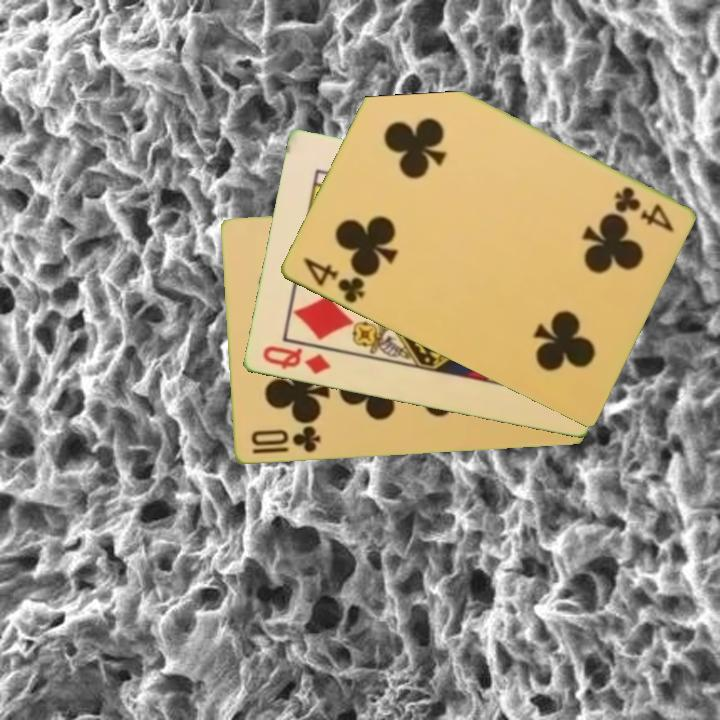10c: (247, 422, 323, 456)
4c: (299, 254, 367, 307), (610, 183, 677, 235)
Qd: (258, 342, 333, 378)
